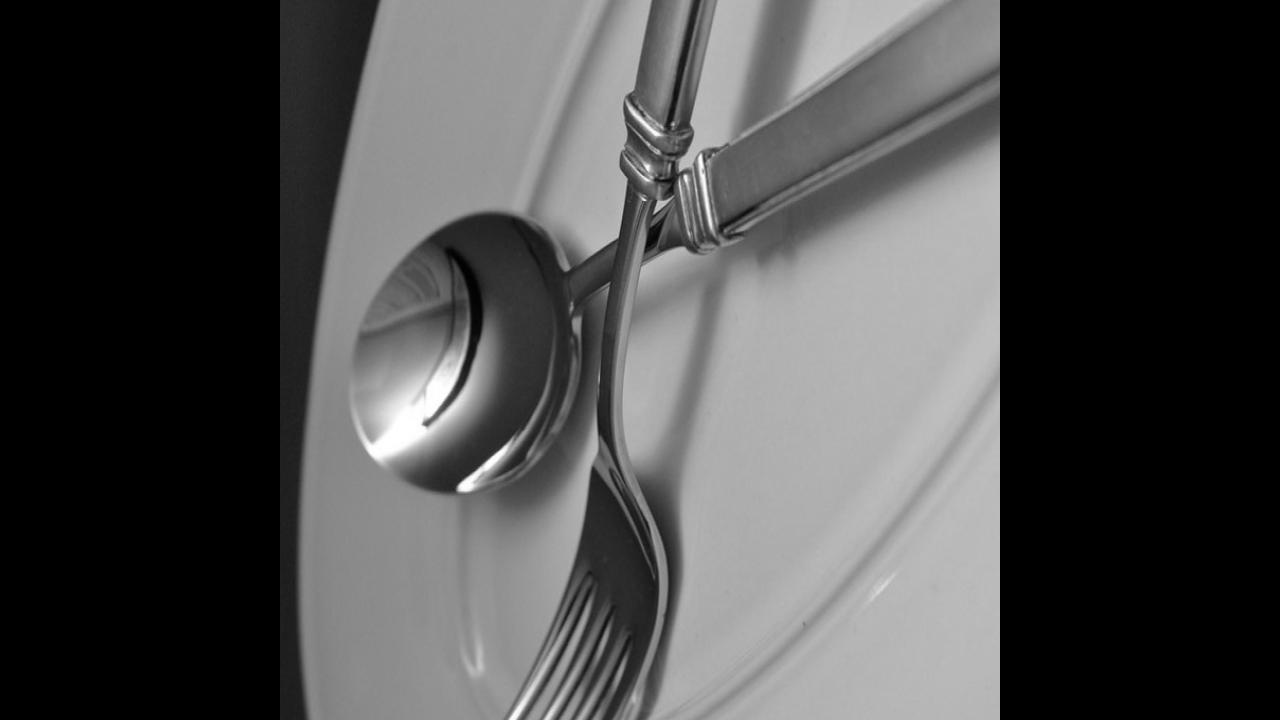fork: (452, 0, 777, 720)
